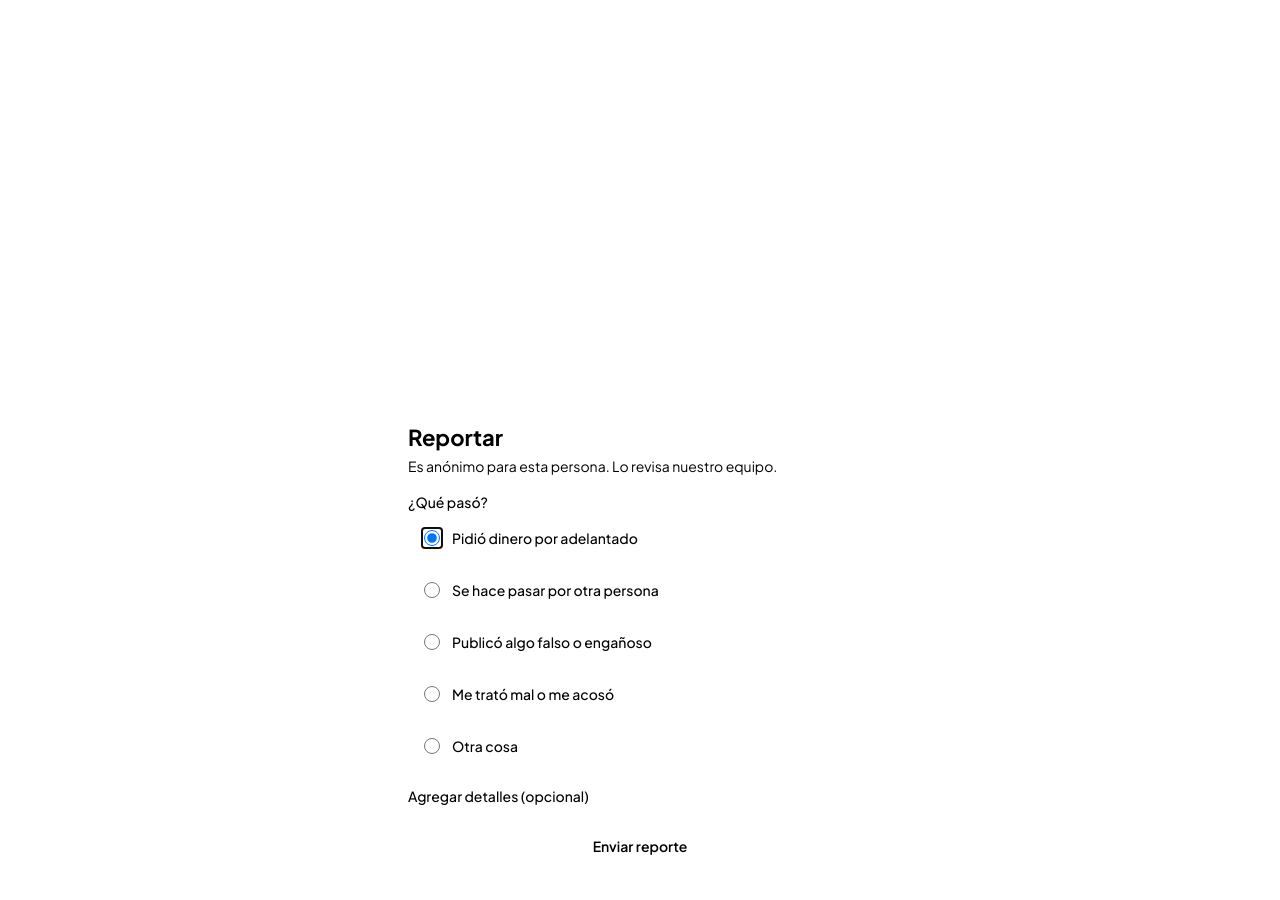
Test case: ReportSheet: copy cuando el envío rebota › con rate-limited avisa que hay que esperar, no que algo salió mal de nuestro lado
Click the button "Enviar reporte". click: (640, 846)
box: [408, 824, 872, 868]
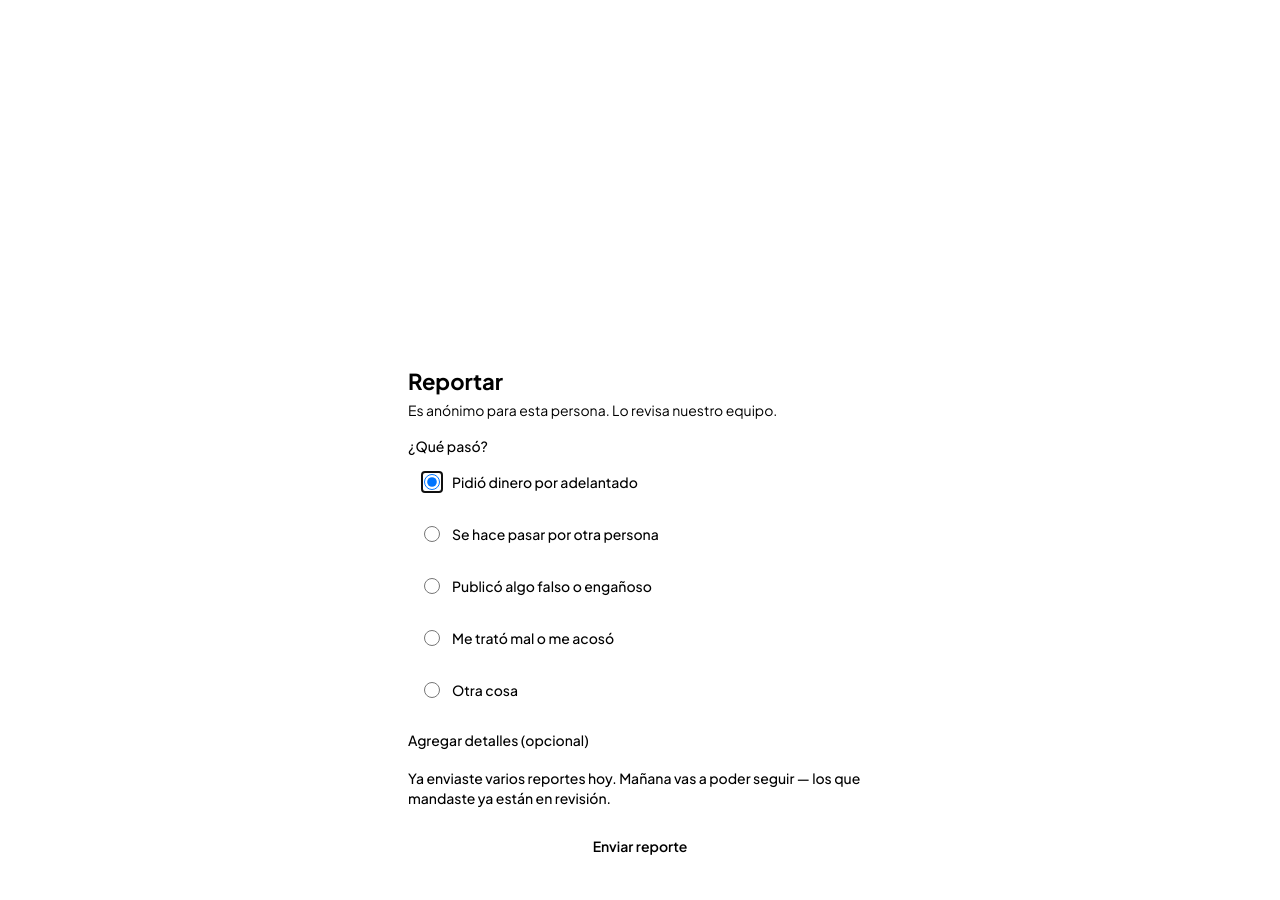
Expected: the message shows "Ya enviaste varios reportes hoy. Mañana vas a poder seguir — los que mandaste ya están en revisión.", [408, 769, 860, 807]
